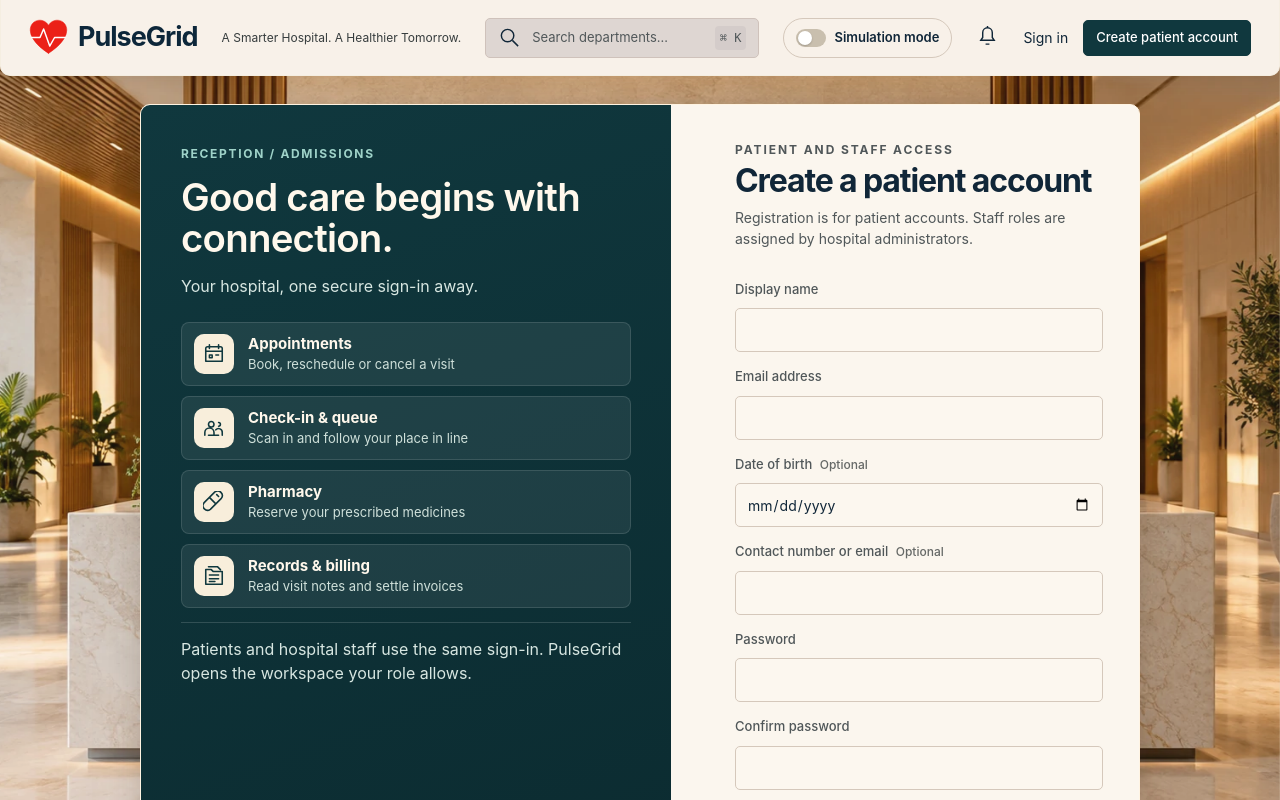
Test: authentication pages › explains when a static demo deployment has no Patient service and does not submit credentials
Expected: the heading "Create a patient account" is shown, 735,163 -> 1103,199
Type "Synthetic Patient" into the field labelled "Display name".
click(919, 330); type("Synthetic Patient")  # box 735,308 -> 1103,352
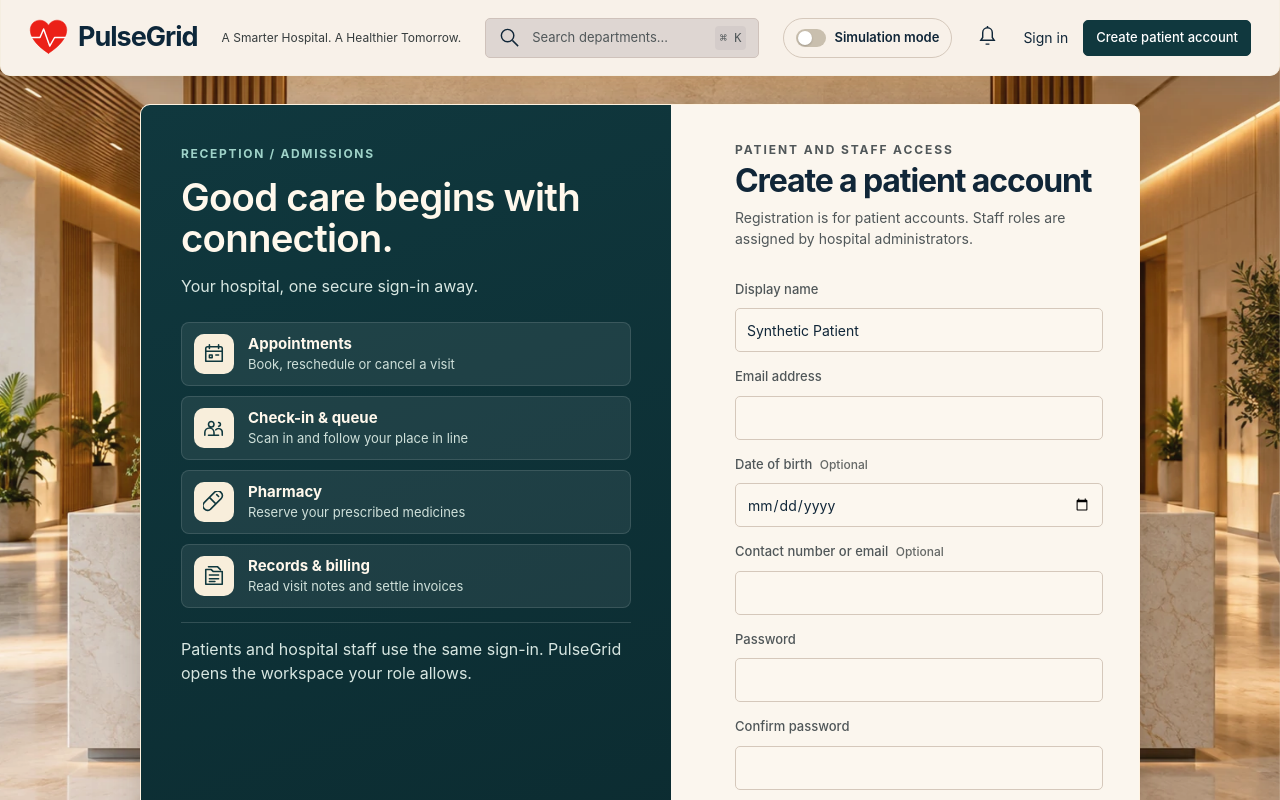
Type "patient@example.test" into the field labelled "Email address".
click(919, 418); type("patient@example.test")  # box 735,396 -> 1103,440
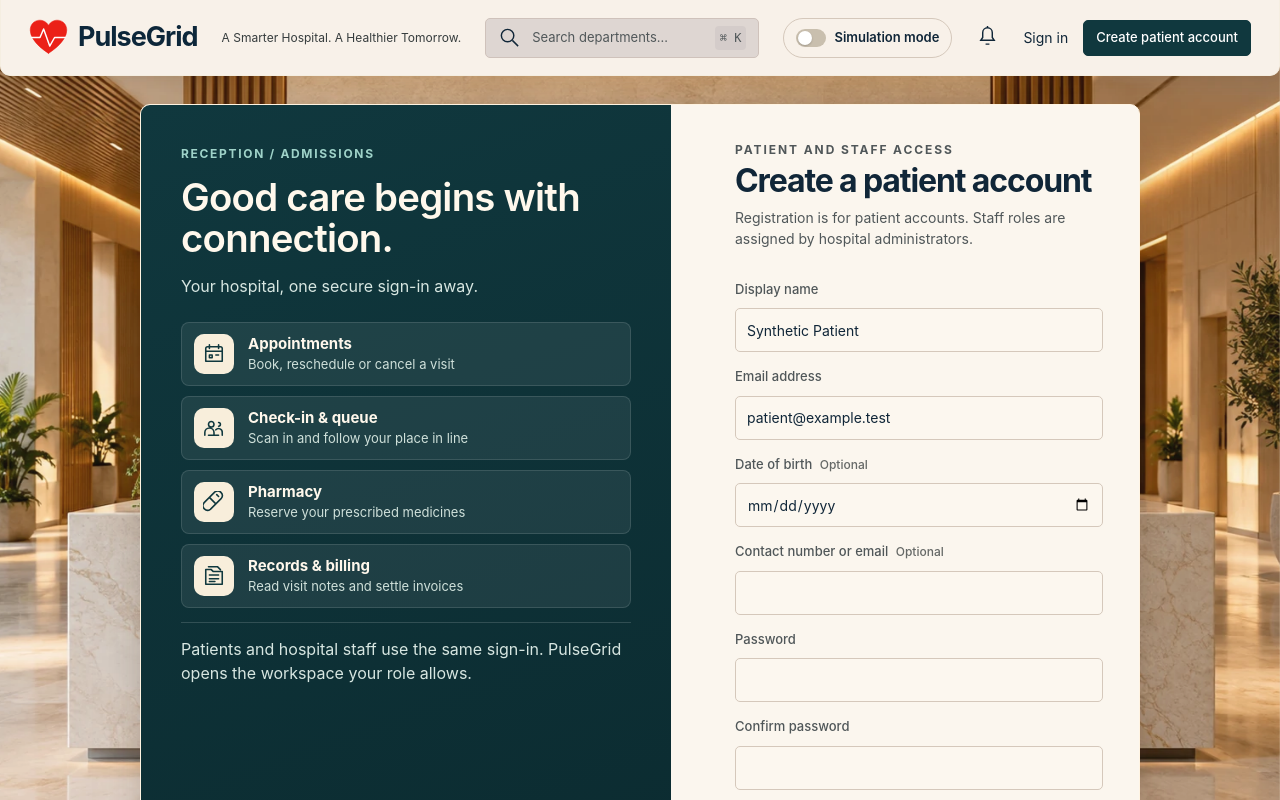
Type "long synthetic passphrase" into the password field labelled "Password".
click(919, 680); type("long synthetic passphrase")  # box 735,658 -> 1103,702
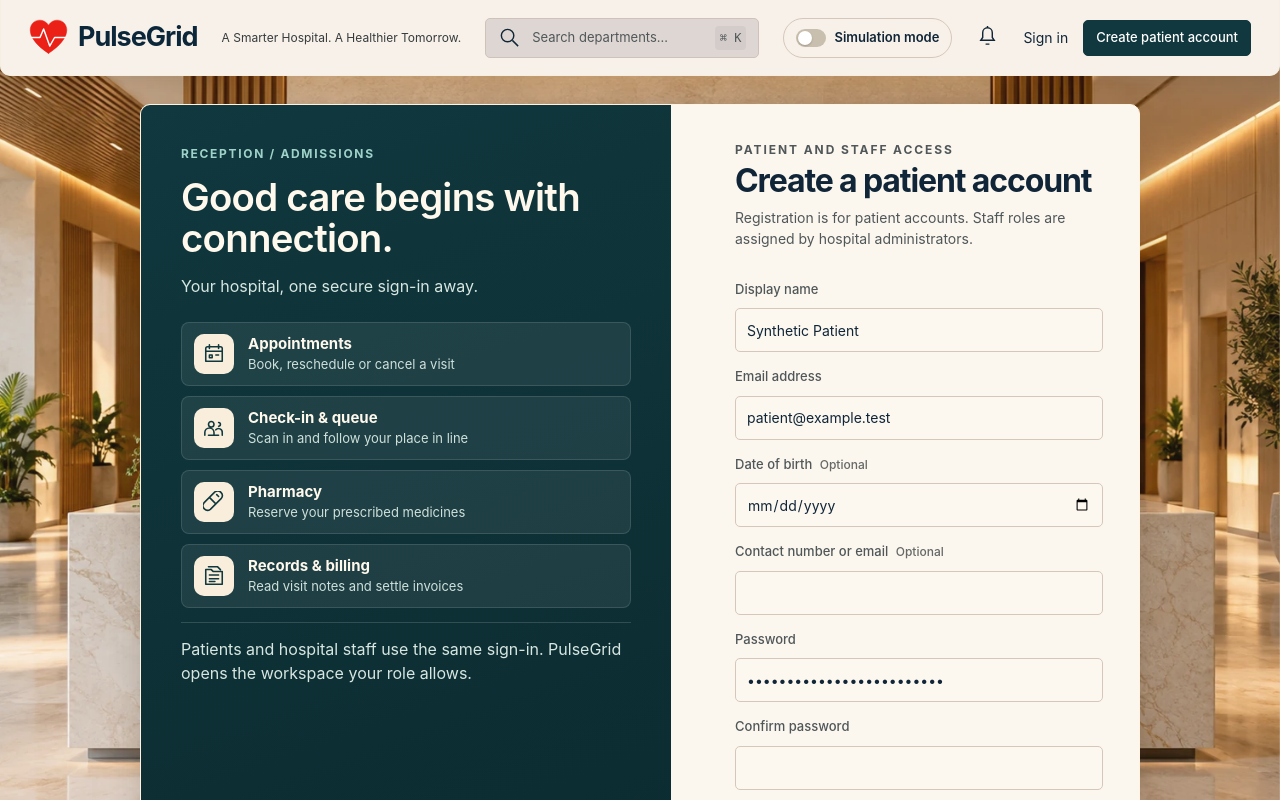
Type "long synthetic passphrase" into the password field labelled "Confirm password".
click(919, 768); type("long synthetic passphrase")  # box 735,746 -> 1103,790
(page scrolled)
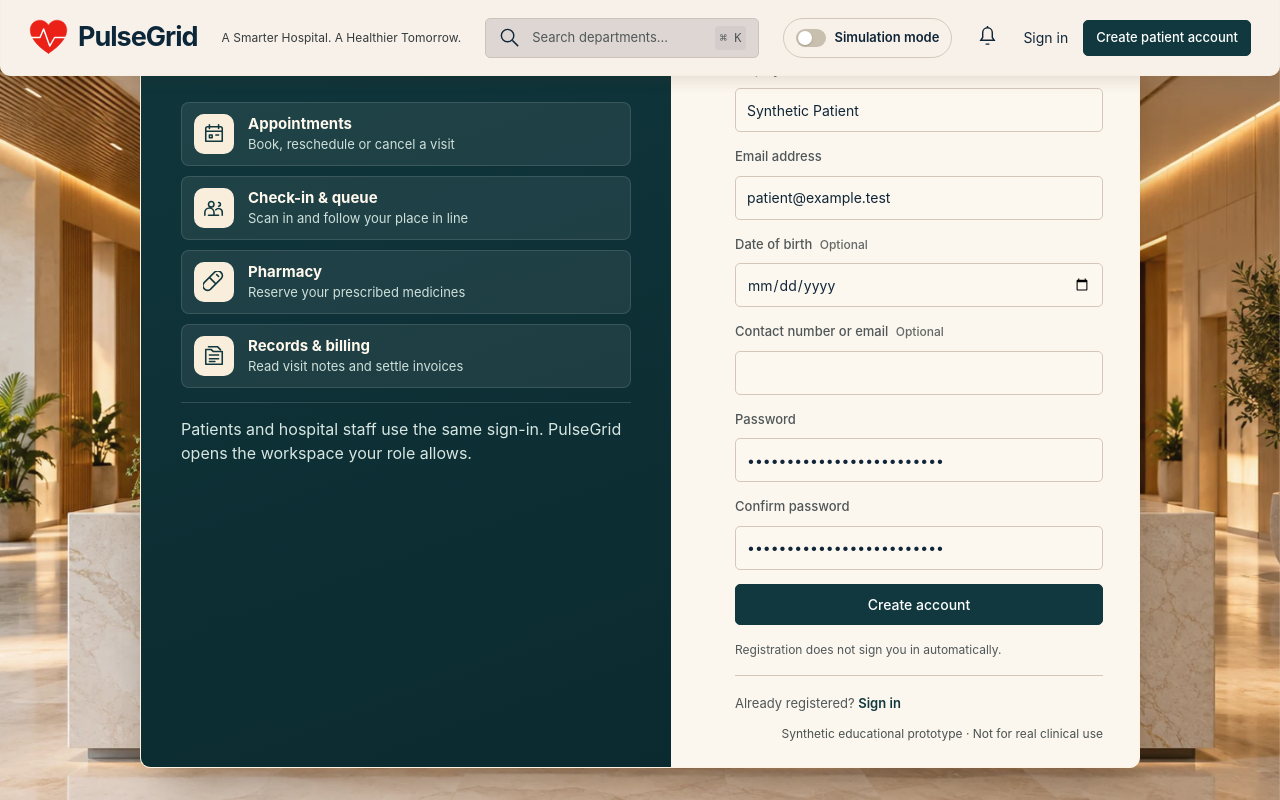
Click the button "Create account".
click(919, 604)  # box 735,584 -> 1103,625
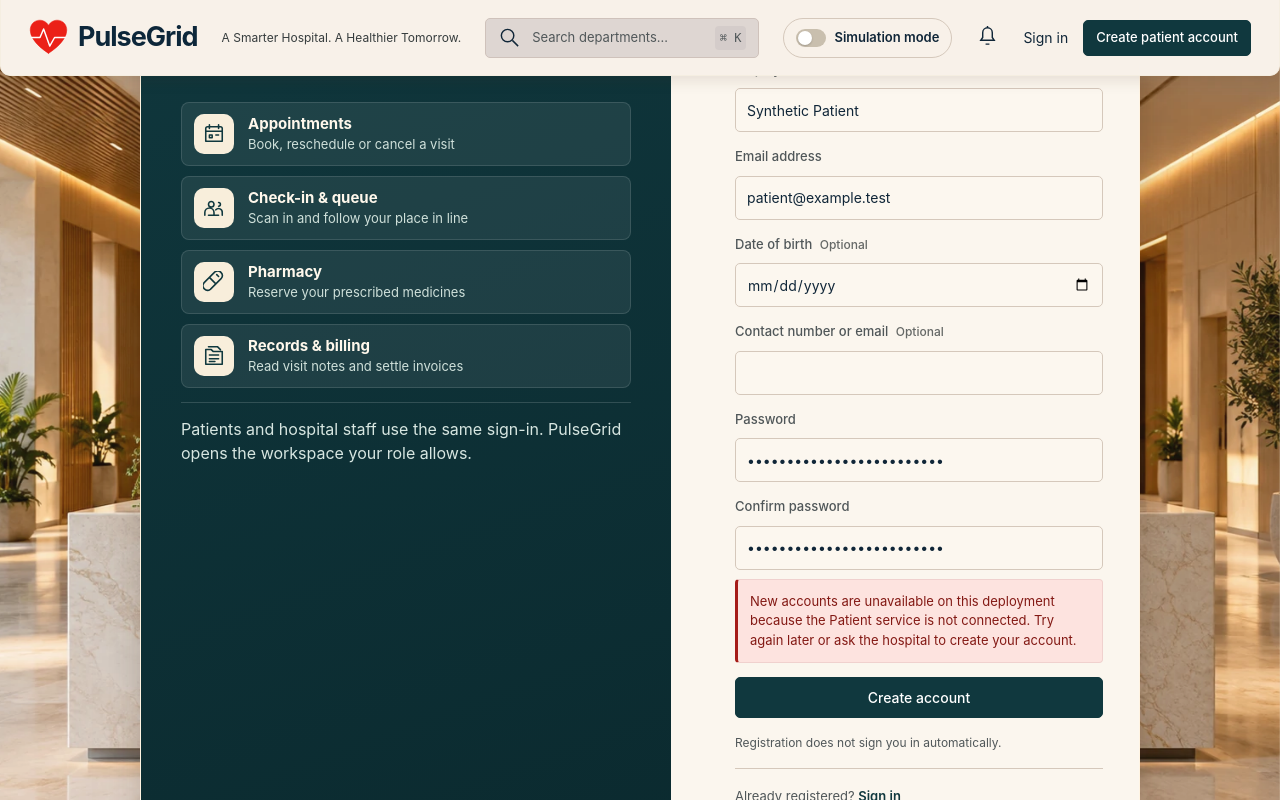
Now the message shows "New accounts are unavailable on this deployment because the Patient service is not connected.", box 750,593 -> 1077,648
